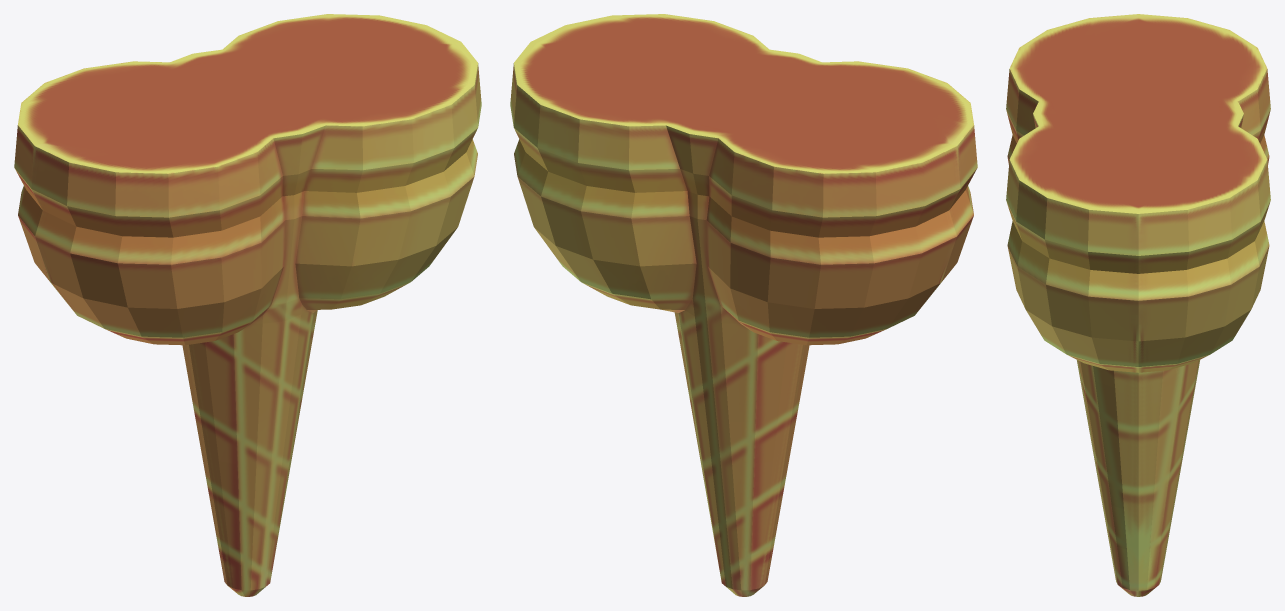
Rendered from cucurucho_3.fbx.
3 renders of one model, left to right at view 1: azimuth 30°, elevation 25°; view 2: azimuth 150°, elevation 25°; view 3: azimuth 270°, elevation 25°, orthographic. The views are drawn at different scales.
Parts seen in each view (by area): view 1: cucurucho3; view 2: cucurucho3; view 3: cucurucho3.
Boxes of the visible parts, left/top/right/bottom form: cucurucho3: left=14, top=14, right=481, bottom=596; cucurucho3: left=510, top=14, right=977, bottom=596; cucurucho3: left=1006, top=14, right=1270, bottom=596.
Size of the model in its own units: 217 by 239 by 120.
Materials: 1 (1 with a texture image).
